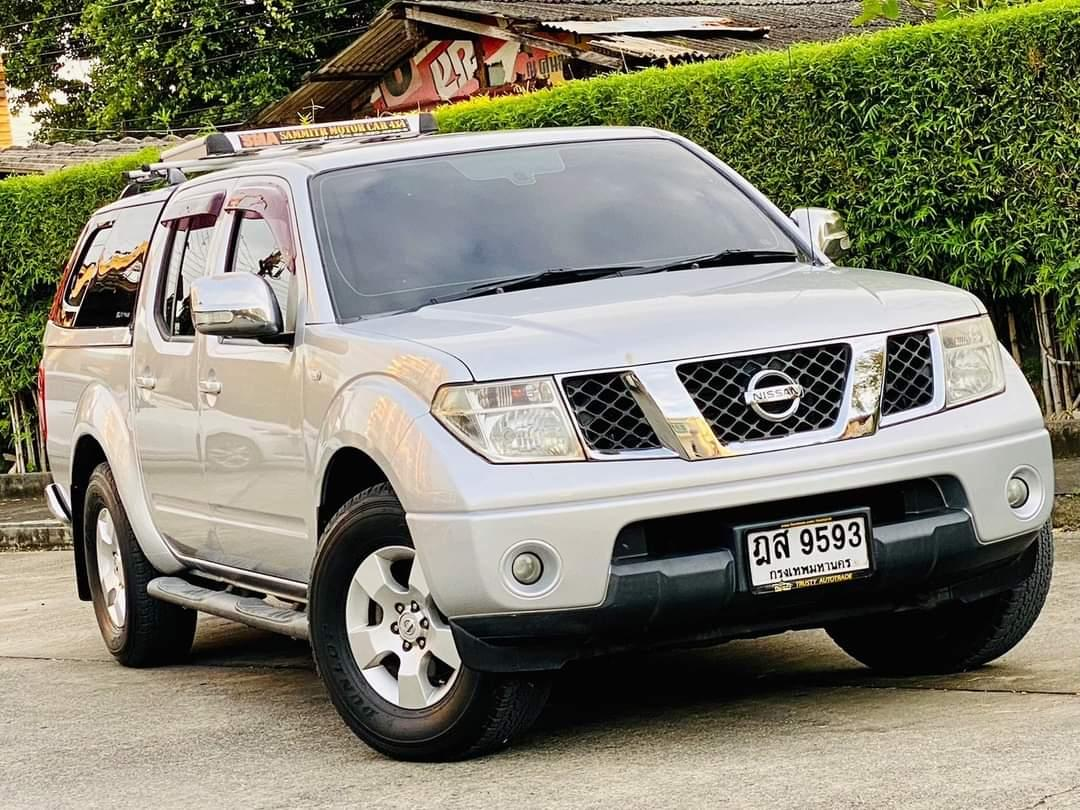license-plate: (724, 506, 878, 599)
